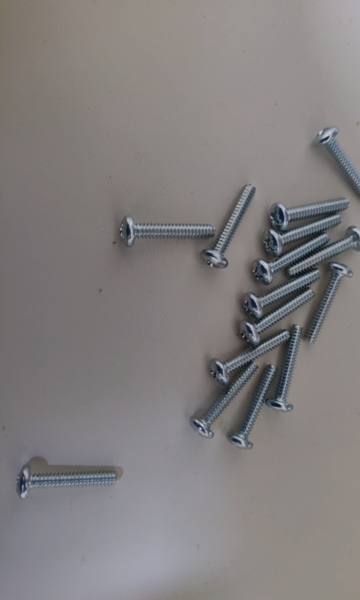longscrew: (189, 363, 261, 440), (230, 362, 281, 449), (205, 184, 257, 268), (304, 267, 356, 348), (252, 233, 331, 285), (215, 330, 290, 384), (240, 291, 314, 345), (240, 269, 323, 317), (269, 324, 309, 416), (115, 212, 219, 246), (289, 229, 360, 277), (16, 467, 118, 499), (319, 126, 360, 204), (264, 216, 344, 254), (270, 191, 351, 227)
